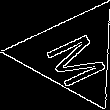M_NE: (34, 22, 110, 86)
